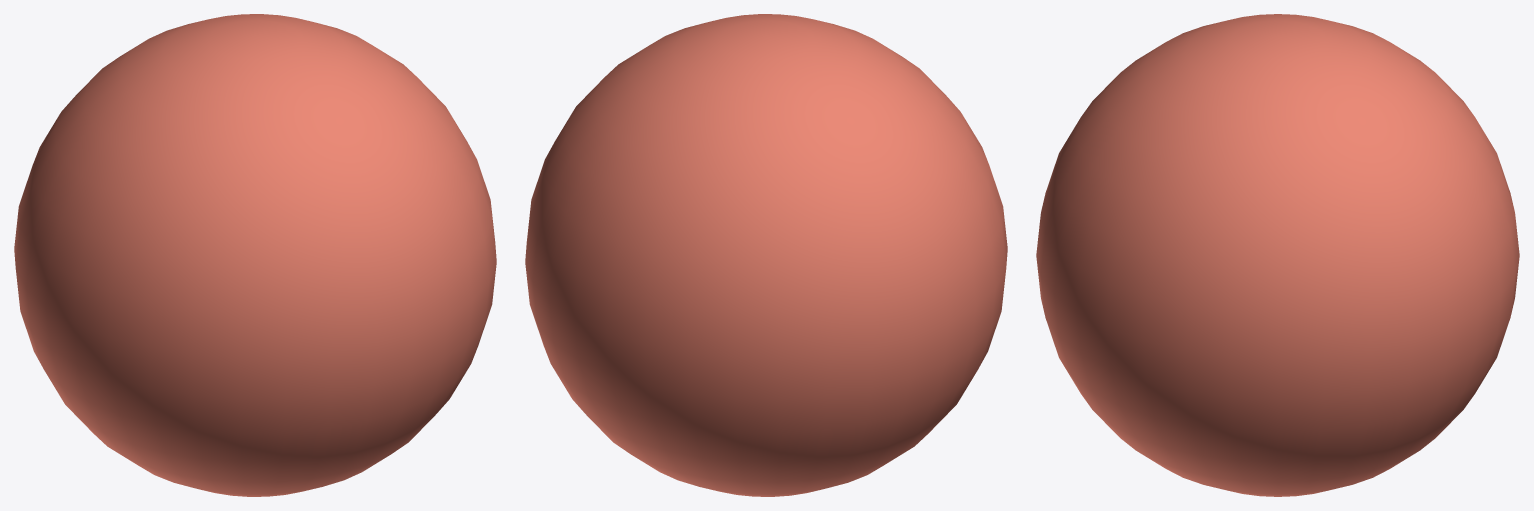
Rendered from medpack.glb.
3 views of the same model, side by side, from view 1: azimuth 30°, elevation 25°; view 2: azimuth 150°, elevation 25°; view 3: azimuth 270°, elevation 25° (orthographic).
Visible parts, largest first — view 1: Bubble; view 2: Bubble; view 3: Bubble.
Boxes of the visible parts, left/top/right/bottom form: Bubble: left=14, top=14, right=496, bottom=496; Bubble: left=525, top=14, right=1007, bottom=496; Bubble: left=1036, top=14, right=1519, bottom=496.
Bounding box in the file's own units: 1 × 1 × 1.
